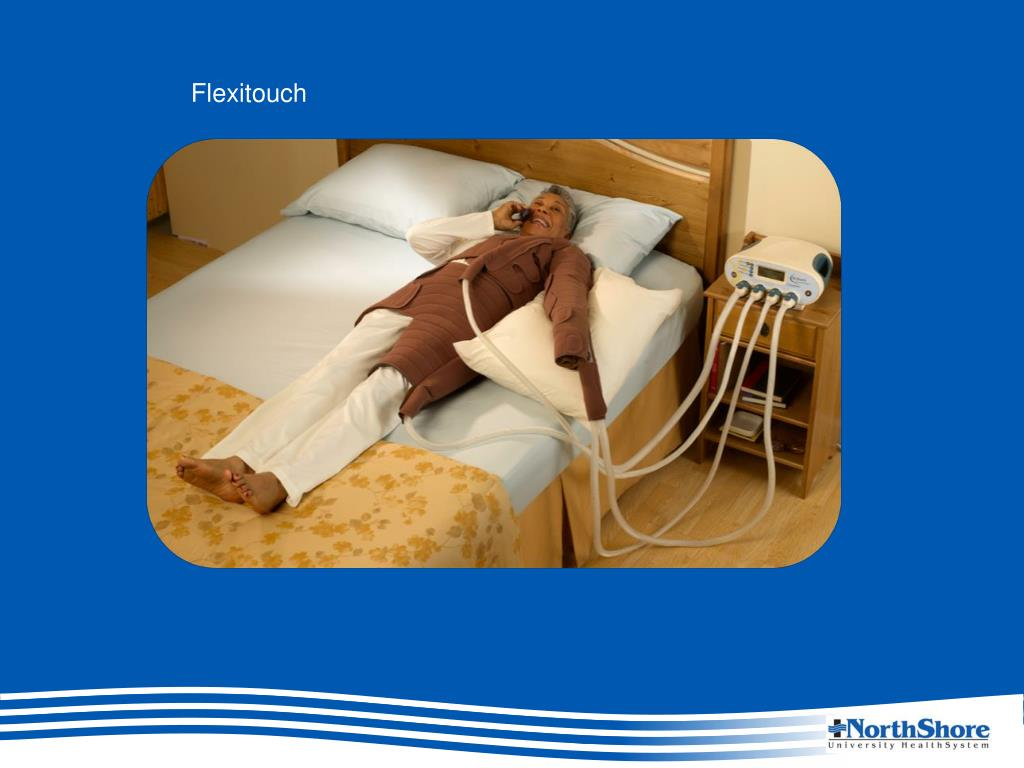bedside_table: (694, 233, 841, 501)
patient: (177, 184, 591, 520)
sequential_compression: (602, 233, 833, 561)
